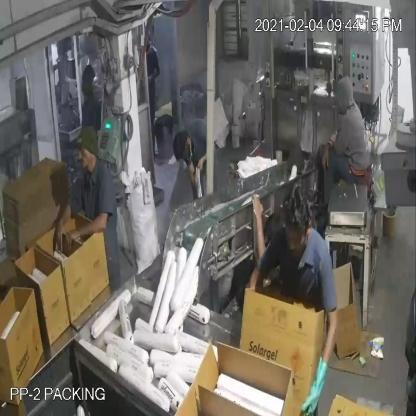glove: (298, 347, 330, 416)
no_glove: (64, 209, 110, 251), (251, 194, 271, 261), (54, 194, 71, 256), (321, 134, 335, 172)
